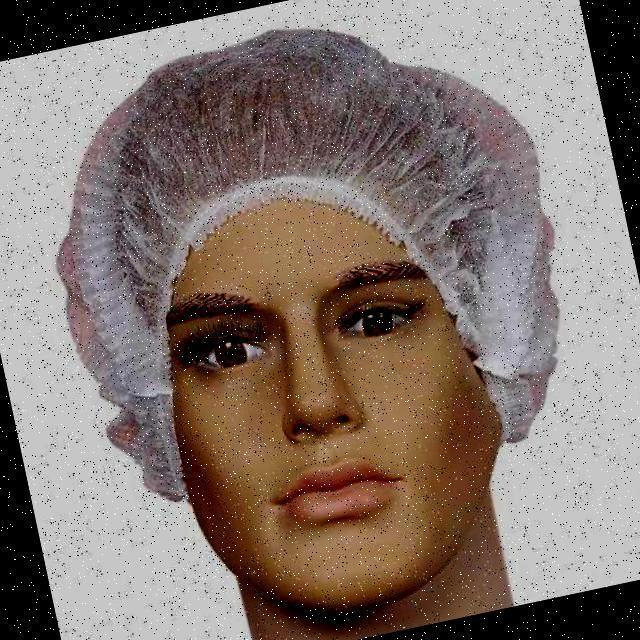gloves: (53, 24, 571, 294)
no_hairnet: (175, 403, 462, 607)
